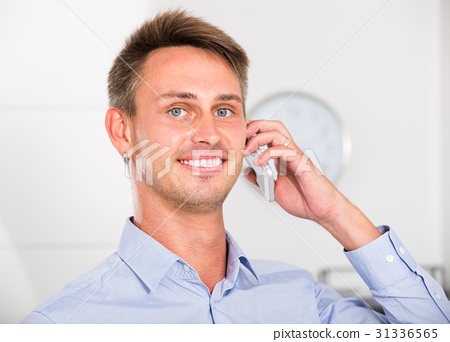phone: (235, 120, 294, 208)
talk: (152, 82, 315, 231)
